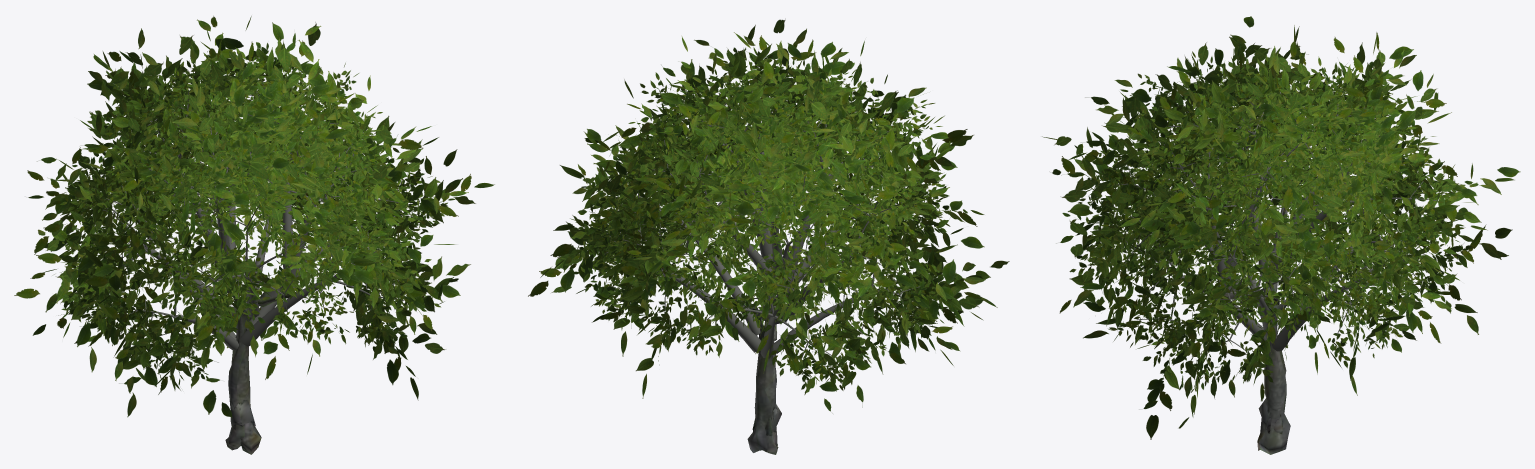
The model's file is canopy.glb.
3 views of the same model, side by side, from view 1: azimuth 30°, elevation 25°; view 2: azimuth 150°, elevation 25°; view 3: azimuth 270°, elevation 25° (orthographic).
Parts seen in each view (by area): view 1: lod1_leaves, lod0_leaves, lod0; view 2: lod1_leaves, lod0_leaves, lod0; view 3: lod1_leaves, lod0_leaves, lod0.
Part boxes in pixels (bbox=[...]): lod1_leaves: bbox=[14, 16, 494, 417]; lod0_leaves: bbox=[52, 42, 455, 385]; lod0: bbox=[94, 83, 417, 454]; lod1_leaves: bbox=[528, 19, 1009, 411]; lod0_leaves: bbox=[569, 47, 964, 394]; lod0: bbox=[604, 91, 920, 454]; lod1_leaves: bbox=[1042, 16, 1520, 439]; lod0_leaves: bbox=[1062, 51, 1475, 392]; lod0: bbox=[1110, 98, 1436, 454].
Size of what is drawn, in the model's own units: 9.9 by 9.09 by 9.76.
Materials: 2 (2 with a texture image).
